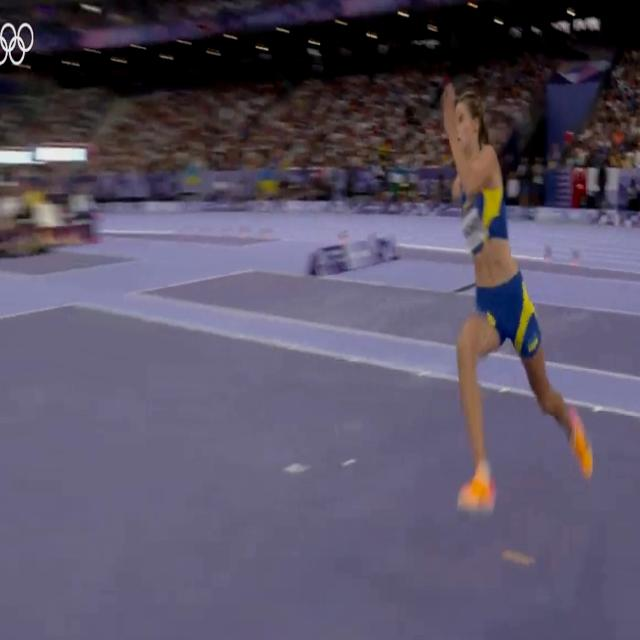run: (431, 69, 594, 512)
